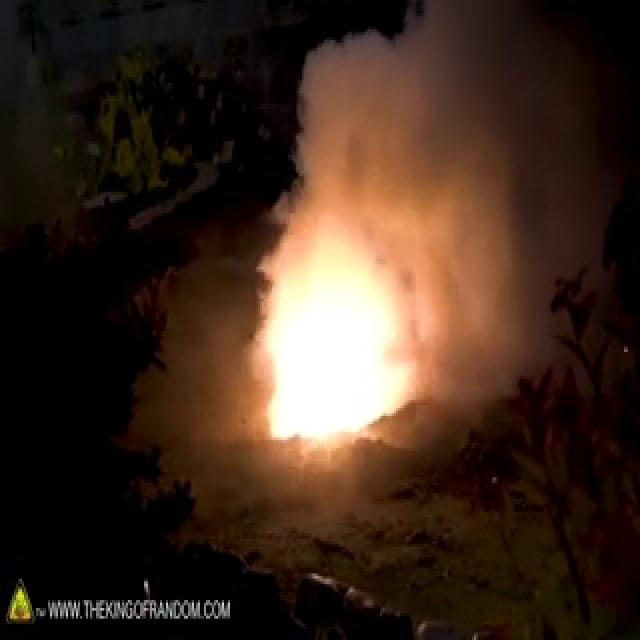fire: (268, 222, 408, 439)
